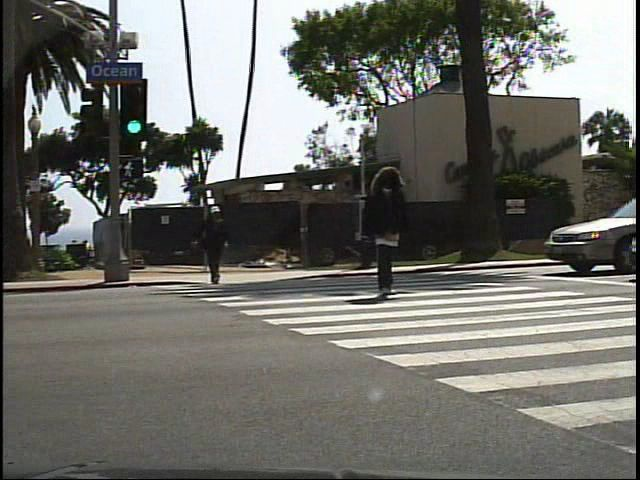person: (356, 160, 422, 310), (197, 198, 234, 293)
